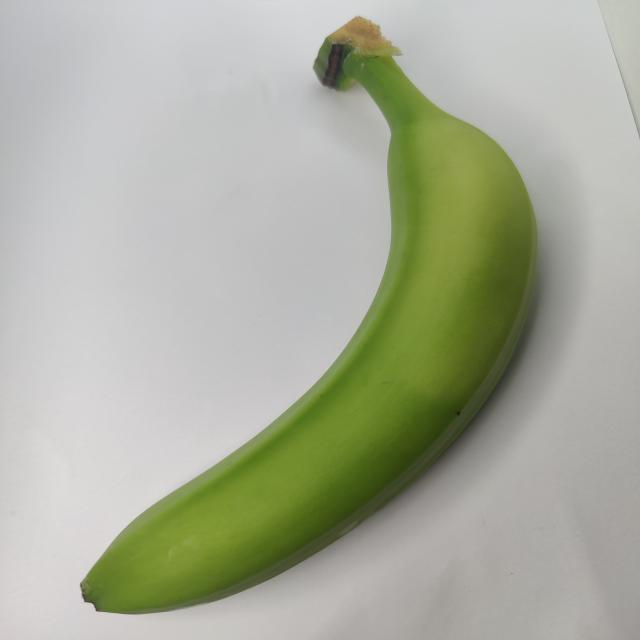raw: (47, 23, 549, 616)
